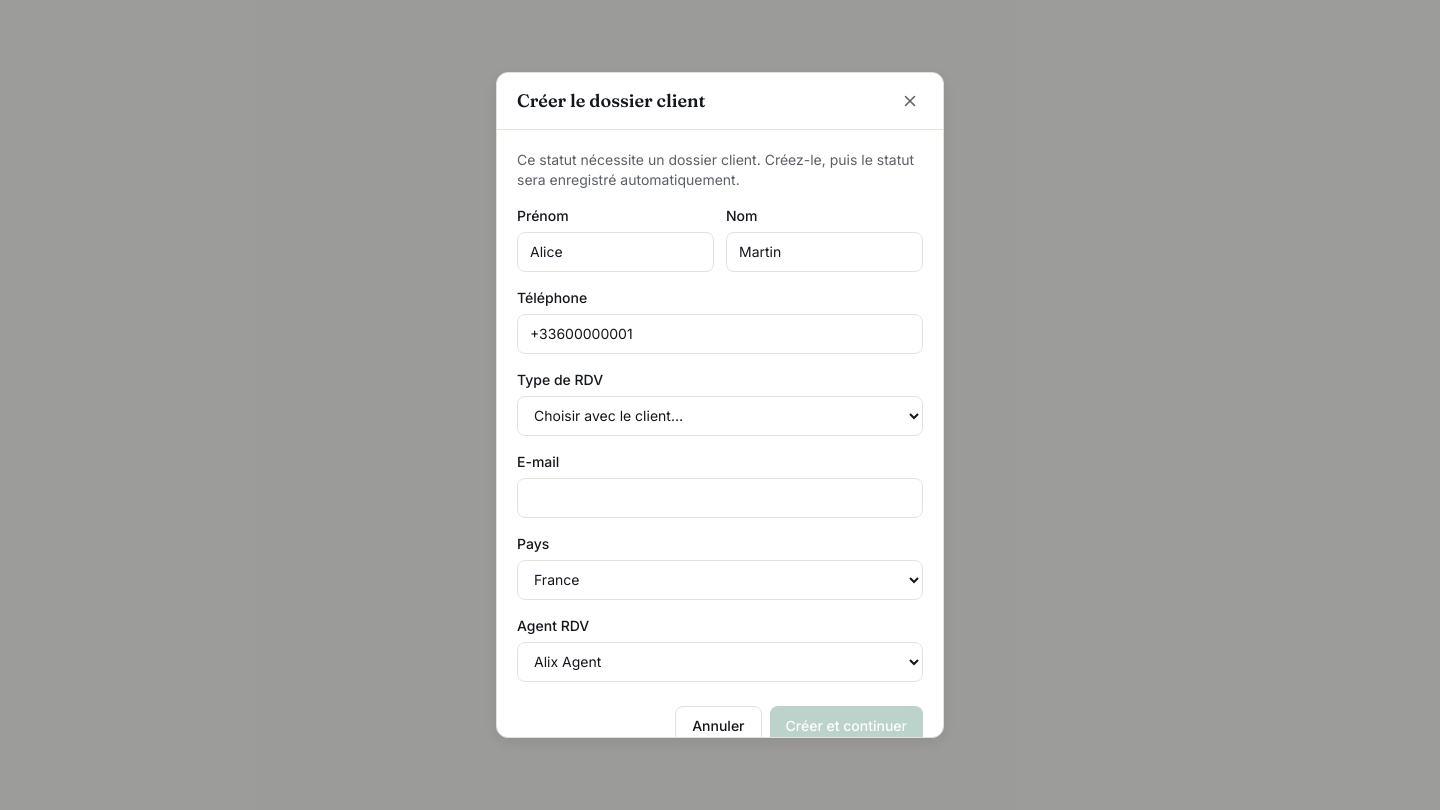
it: Type de RDV choisi avec le client à la création du dossier › obligatoire, sans pré-sélection (pas de défaut silencieux)
This screenshot has width=1440, height=810.
Expected: the dropdown labelled "Agent RDV" shows "Alix Agent", [517, 642, 923, 682]
Expected: the button "Créer et continuer" is disabled, [770, 706, 923, 737]
Select "RDV en agence" in the dropdown labelled "Type de RDV". click: (720, 416)
box: [517, 396, 923, 436]
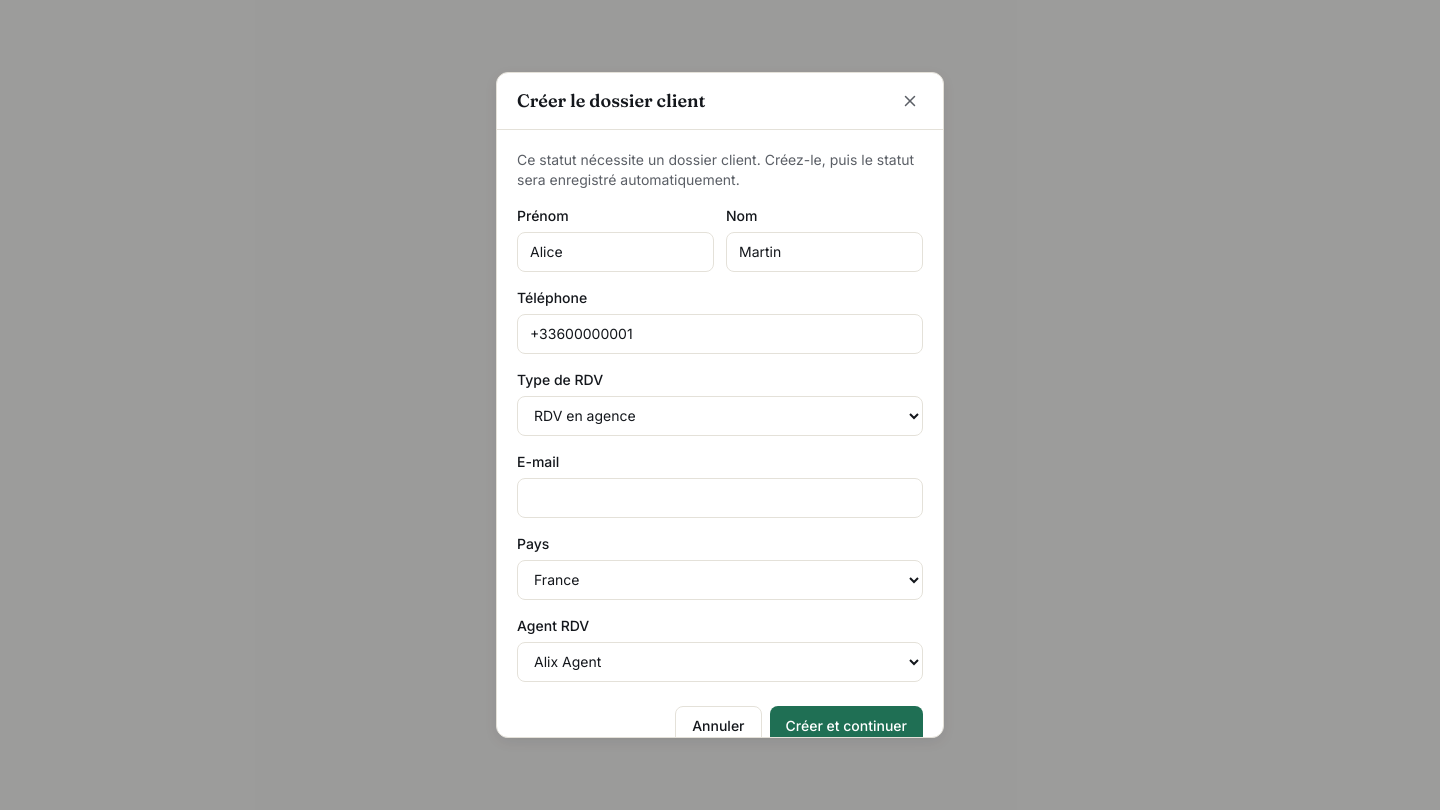
Expected: the button "Créer et continuer" is enabled, [770, 706, 923, 737]
